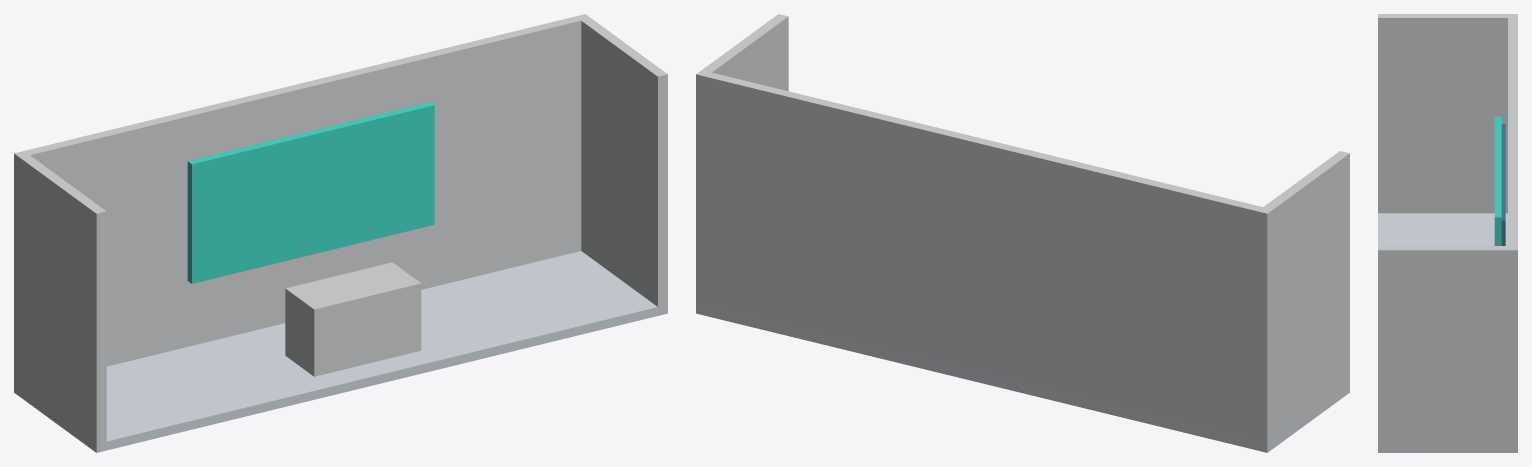
3 renders of one model, left to right at view 1: azimuth 30°, elevation 25°; view 2: azimuth 150°, elevation 25°; view 3: azimuth 270°, elevation 25°, orthographic. The views are drawn at different scales.
Visible parts, largest first — view 1: Exhibition Booth Concept; view 2: Exhibition Booth Concept; view 3: Exhibition Booth Concept.
Boxes of the visible parts, box(x1,y1,x2,y2) form: Exhibition Booth Concept: box(14, 14, 667, 452); Exhibition Booth Concept: box(696, 14, 1349, 452); Exhibition Booth Concept: box(1378, 14, 1517, 452).
Size of the model in its own units: 8 by 3.2 by 2.
